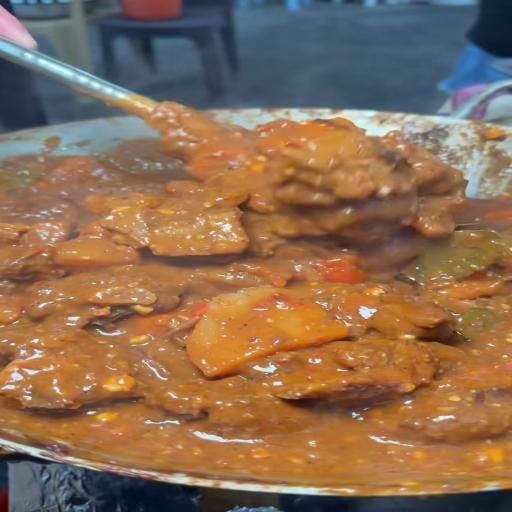pork caldereta: (0, 125, 512, 444)
